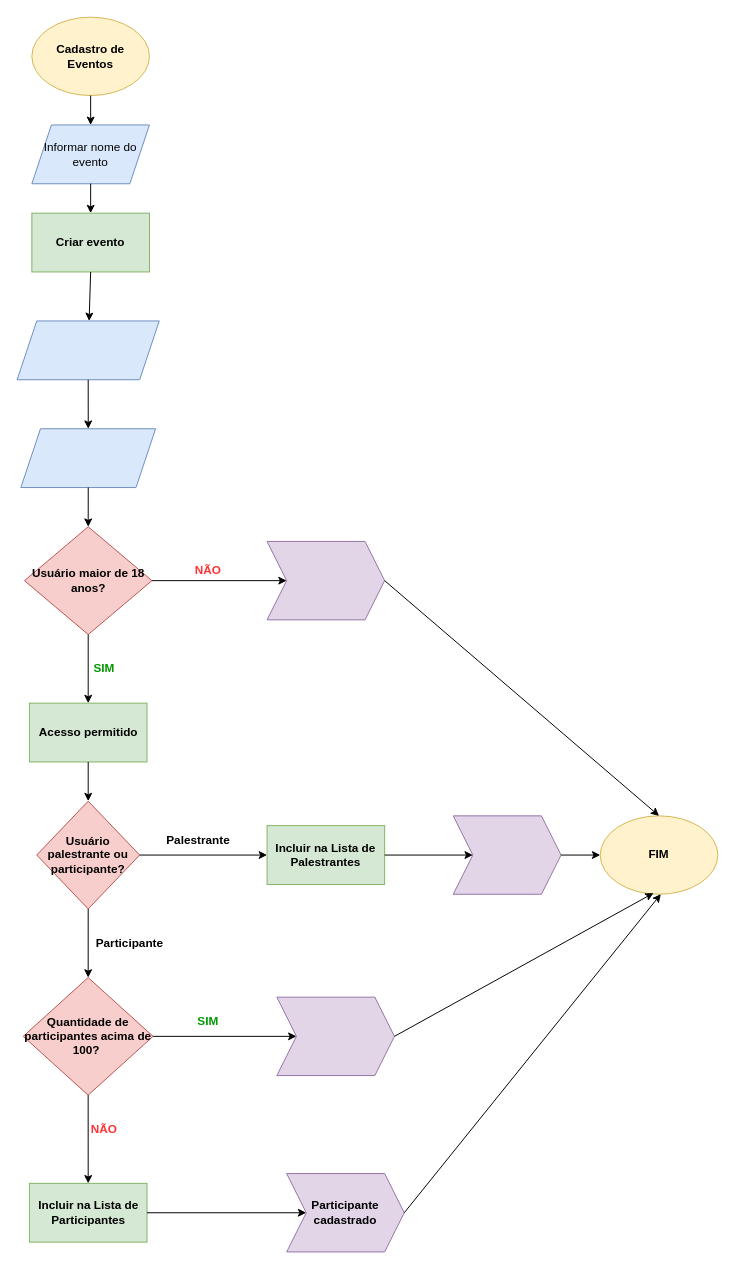
This 735x1269 diagram has some shape labels left out. The centre of each missing label's shape, as x and y in pixels:
Acesso não permitido: the point at 325,580
Cadastro não permitido. Limite de participantes excedido.: the point at 335,1036
Informar a idade do usuário: the point at 88,458
Informar o nome do usuário: the point at 87,350
Palestrante cadastrado: the point at 506,854
